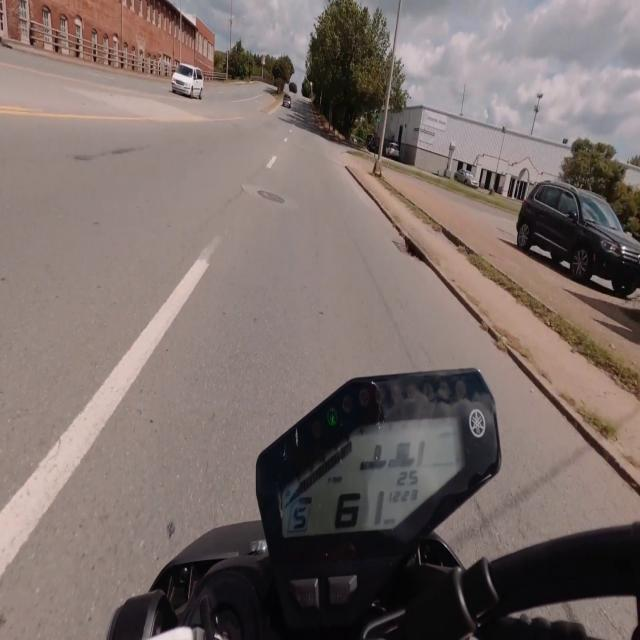car: (517, 181, 639, 297), (172, 64, 203, 99), (454, 169, 478, 188), (283, 95, 291, 108)
motorcycle: (108, 370, 639, 639)
